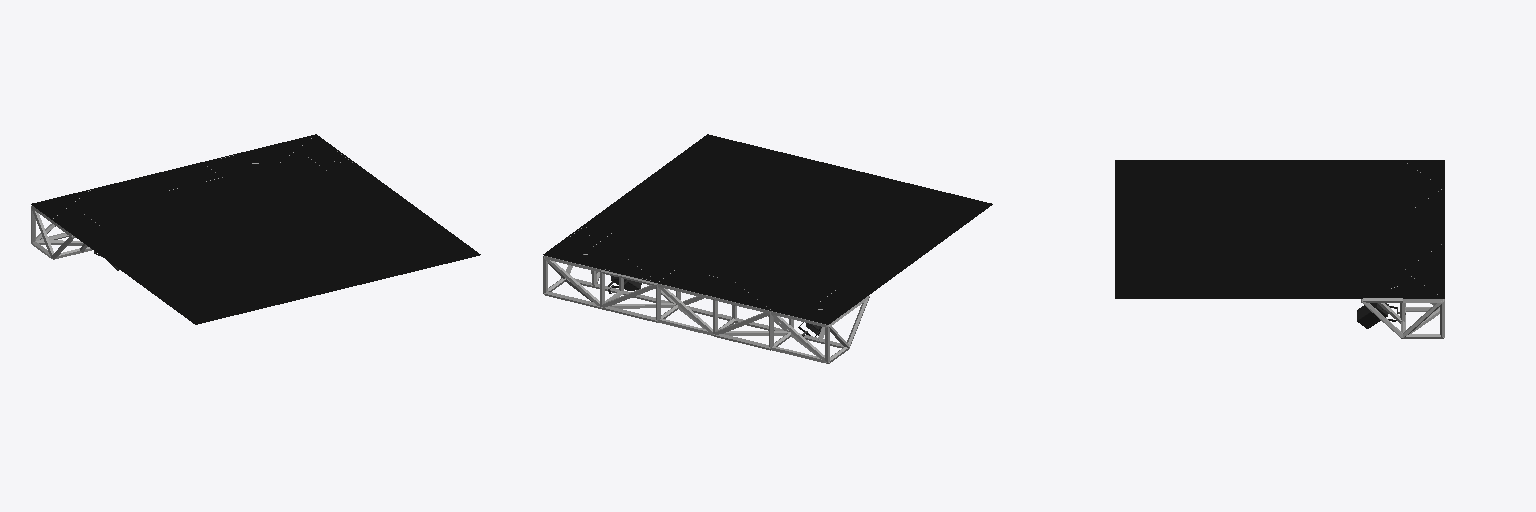
Rendered from mademoisellek_mur.obj.
The picture shows the model from 3 angles: view 1: azimuth 30°, elevation 25°; view 2: azimuth 150°, elevation 25°; view 3: azimuth 270°, elevation 25°; orthographic projection.
Visible parts, largest first — view 1: Mur_1, Structure.1_1; view 2: Mur_1, Structure.1_1; view 3: Mur_1, Structure.1_1.
Part boxes in pixels (x1,y1,x2,y2): Mur_1: (31,134,480,324); Structure.1_1: (31,138,352,259); Mur_1: (543,134,992,324); Structure.1_1: (543,227,869,363); Mur_1: (1115,160,1444,298); Structure.1_1: (1361,163,1444,338).
Bounding box in the file's own units: 501 × 88.41 × 500.